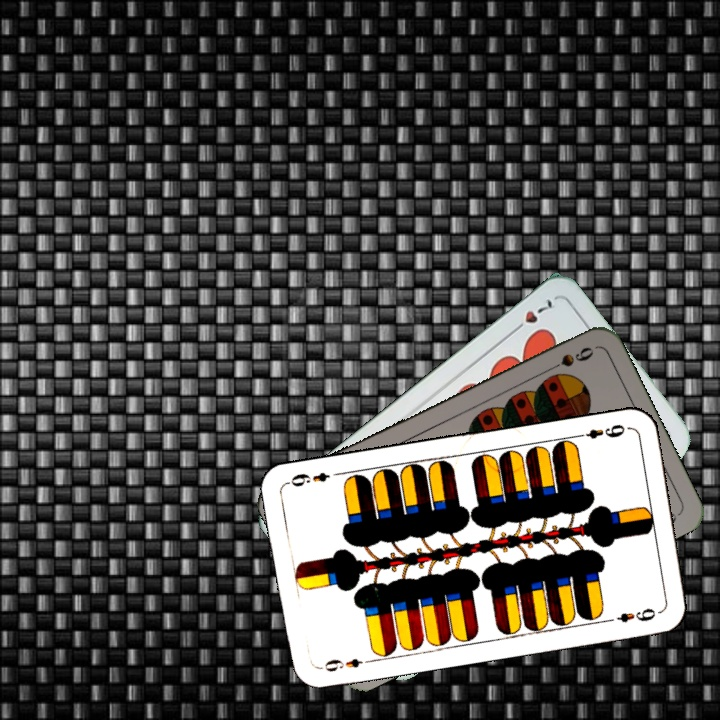E9: (571, 420, 628, 442), (315, 654, 374, 675)
H7: (507, 294, 559, 337)
S9: (541, 342, 597, 376)
